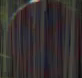No Stopping: (6, 4, 72, 63)
